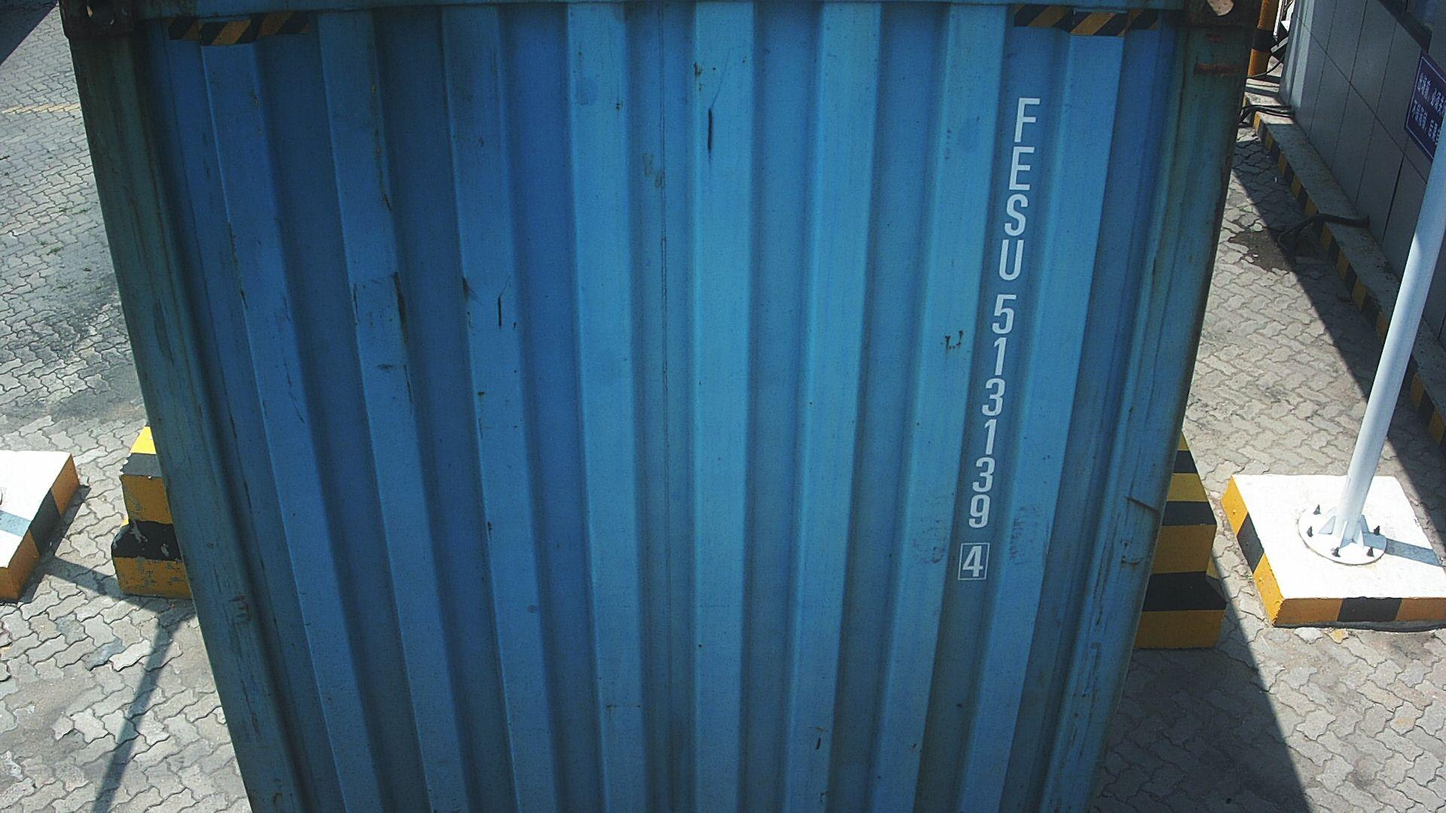container-numbers: (954, 88, 1043, 585)
